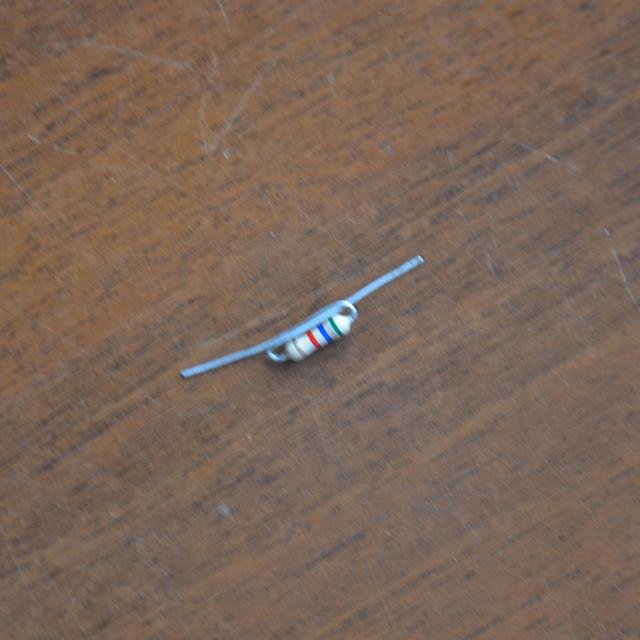blue: (317, 324, 331, 341)
gold: (292, 338, 307, 357)
green: (326, 317, 345, 336)
red: (306, 330, 320, 347)
resistor: (283, 316, 355, 363)
